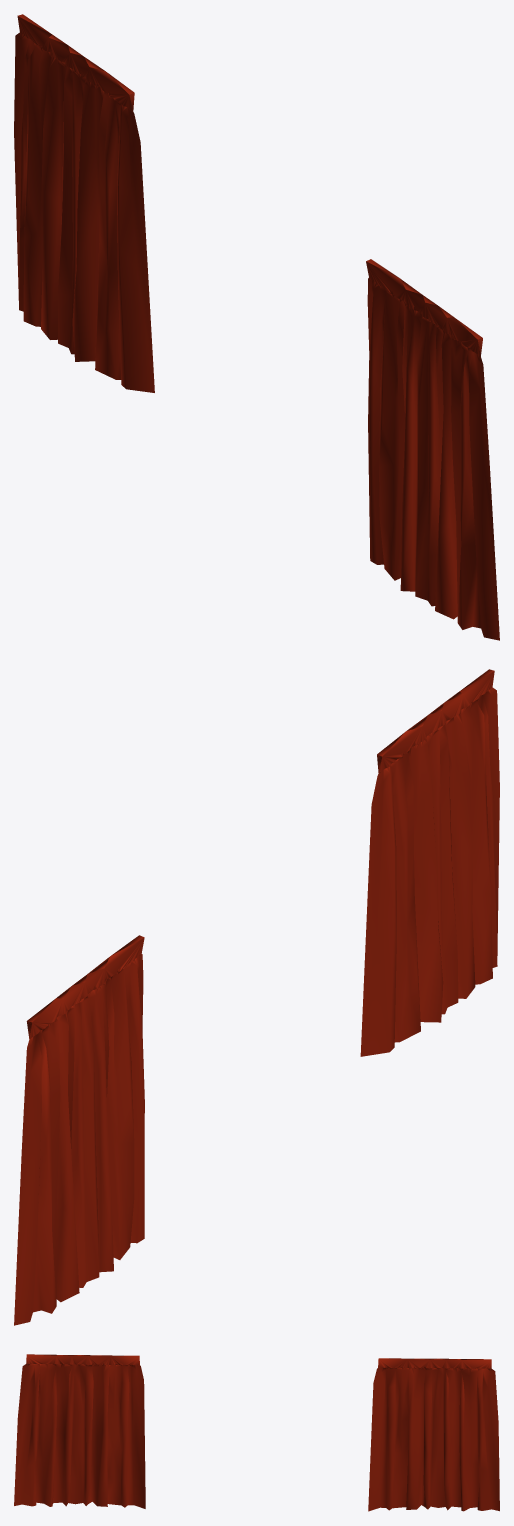
Rendered from Curtain1.fbx.
3 renders of one model, top to bottom at view 1: azimuth 30°, elevation 25°; view 2: azimuth 150°, elevation 25°; view 3: azimuth 270°, elevation 25°, orthographic. The views are drawn at different scales.
Visible parts, largest first — view 1: Cloth_Shape.004; view 2: Cloth_Shape.004; view 3: Cloth_Shape.004.
Boxes of the visible parts, x1,y1,x2,y2 form: Cloth_Shape.004: [14, 14, 499, 640]; Cloth_Shape.004: [14, 669, 499, 1325]; Cloth_Shape.004: [14, 1354, 499, 1511].
Bounding box in the file's own units: 0.4987 × 14.45 × 5.1.
